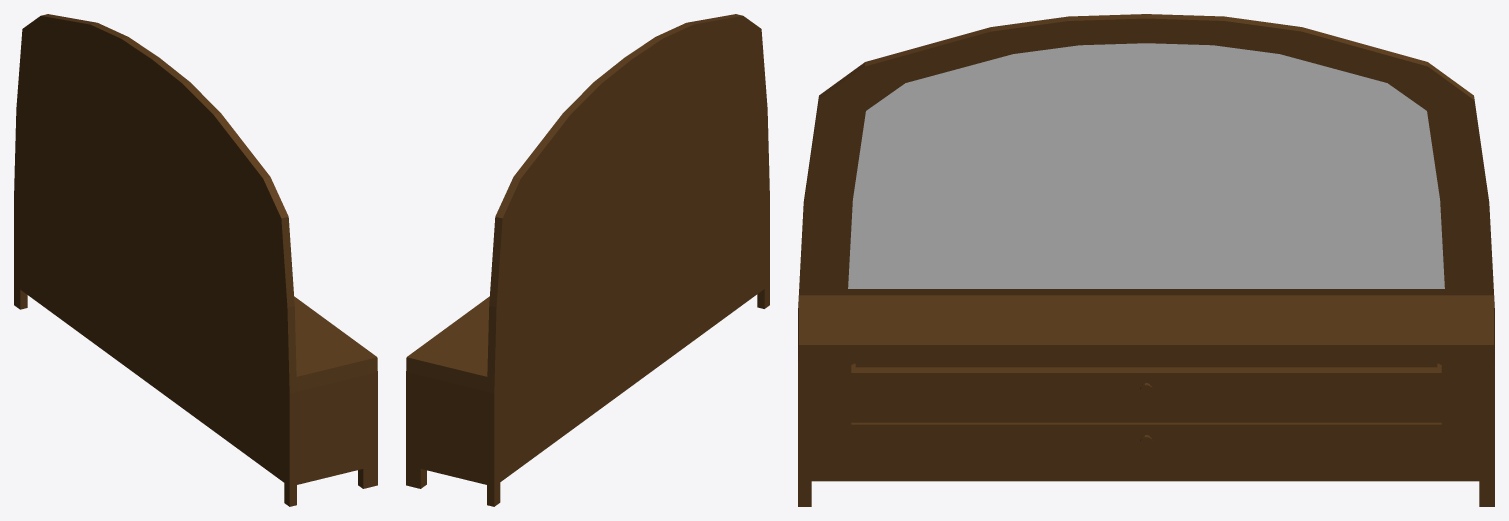
File: Mirror.fbx
3 views of the same model, side by side, from view 1: azimuth 30°, elevation 25°; view 2: azimuth 150°, elevation 25°; view 3: azimuth 270°, elevation 25° (orthographic). The views are drawn at different scales.
Visible parts, largest first — view 1: Cupboard; view 2: Cupboard; view 3: Cupboard, Mirror, Drawer, Drawer.001.
Part boxes in pixels (box(x1,y1,x2,y2)): Cupboard: box(14, 14, 377, 506); Cupboard: box(406, 14, 769, 506); Cupboard: box(798, 14, 1494, 506); Mirror: box(848, 43, 1444, 288); Drawer: box(851, 363, 1441, 399); Drawer.001: box(851, 422, 1441, 451).
Bounding box in the file's own units: 210 × 646 × 930.
